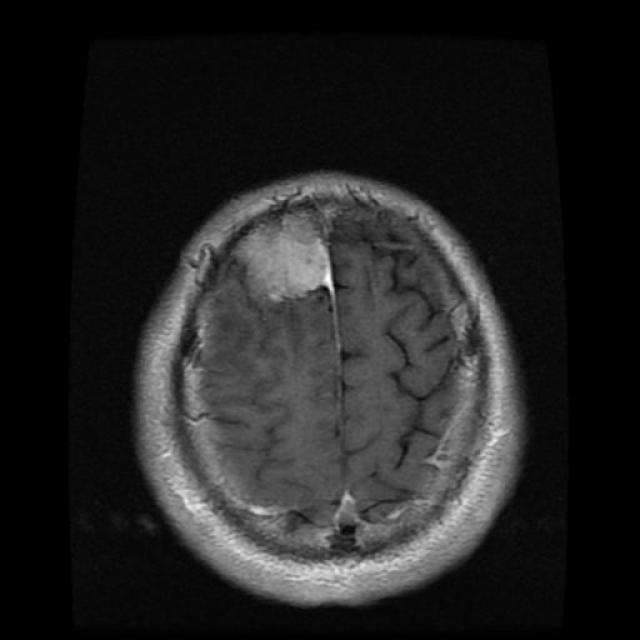meningioma: (235, 214, 329, 301)
